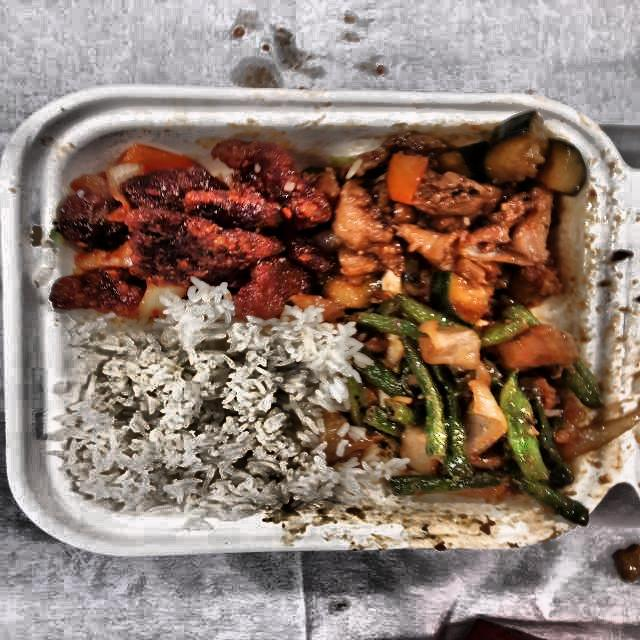Food: (64, 311, 326, 518), (324, 116, 594, 316), (50, 126, 335, 310), (351, 304, 607, 500)
